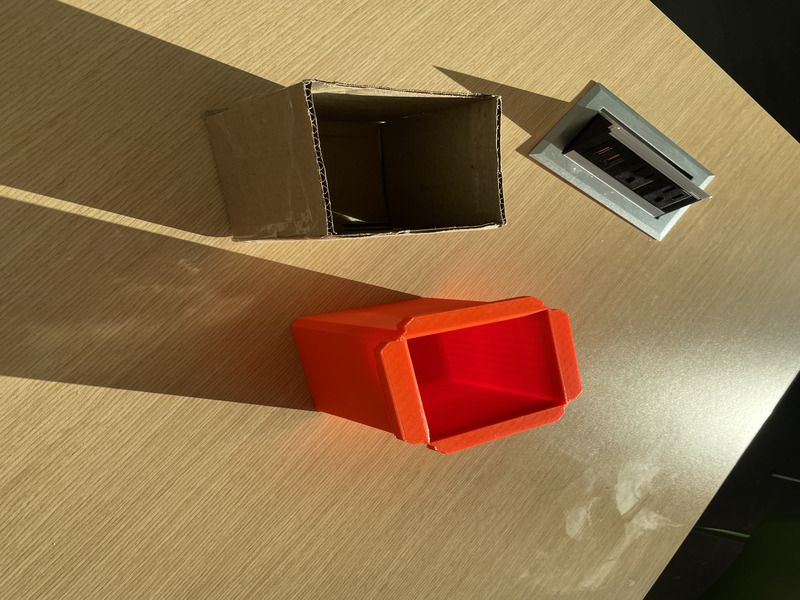payload1: (286, 285, 592, 462)
payload3: (197, 71, 514, 251)
